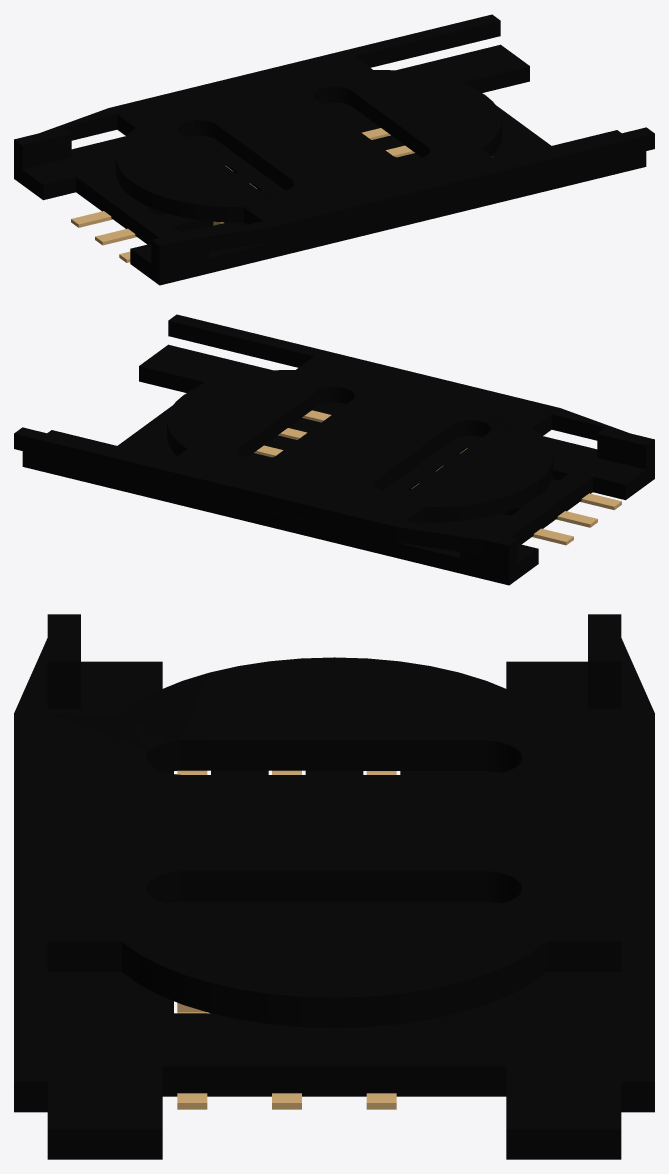
File: SIMHOLDER.dae
3 renders of one model, top to bottom at view 1: azimuth 30°, elevation 25°; view 2: azimuth 150°, elevation 25°; view 3: azimuth 270°, elevation 25°, orthographic. The views are drawn at different scales.
Parts seen in each view (by area): view 1: SIMHOLDER; view 2: SIMHOLDER; view 3: SIMHOLDER.
Part boxes in pixels (x1,y1,x2,y2): SIMHOLDER: (14,14,654,285); SIMHOLDER: (14,314,654,585); SIMHOLDER: (14,614,654,1159).
Size of the model in its own units: 29.7 by 17.2 by 2.41.
